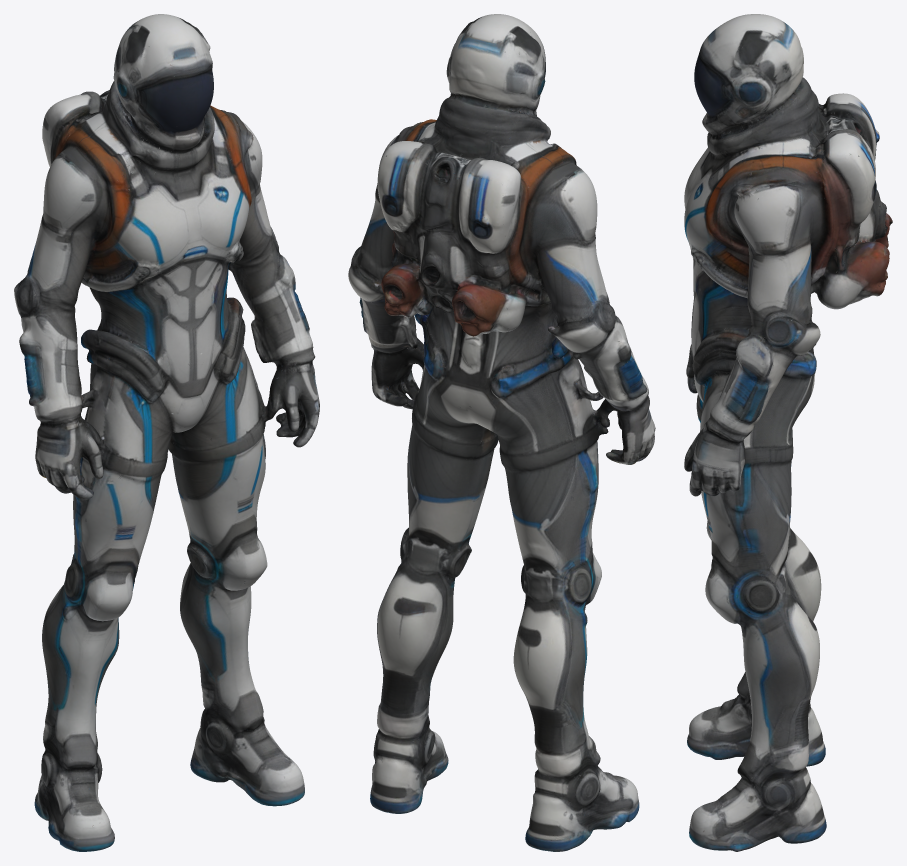
File: astronaut2.glb
The picture shows the model from 3 angles, left to right: view 1: azimuth 30°, elevation 25°; view 2: azimuth 150°, elevation 25°; view 3: azimuth 270°, elevation 25°; orthographic projection.
Size of the model in its own units: 0.7462 by 2 by 0.4859.
Materials: 1 (1 with a texture image).
